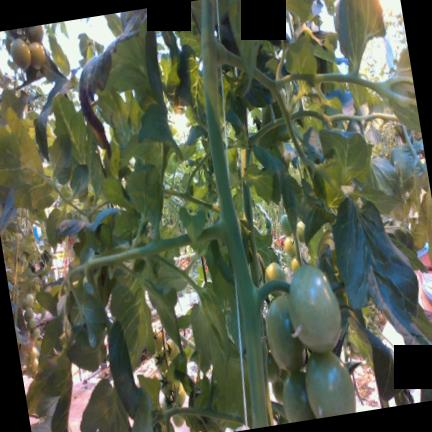6kp_peduncle: (232, 253, 291, 351)
6kp_petiole: (175, 172, 250, 279), (202, 1, 247, 97)
MainStem: (202, 0, 269, 429), (242, 182, 260, 286)
tomato: (288, 265, 341, 353), (306, 351, 356, 417), (266, 295, 306, 372), (283, 371, 315, 422), (265, 262, 286, 297), (11, 38, 31, 69), (29, 42, 45, 69), (174, 382, 186, 407), (161, 374, 174, 396), (284, 236, 296, 258), (280, 214, 292, 236), (155, 350, 167, 372), (29, 25, 43, 43), (167, 339, 179, 360), (161, 396, 174, 411), (154, 331, 163, 352), (297, 221, 305, 242), (172, 414, 184, 427), (29, 359, 38, 375), (25, 293, 34, 307), (291, 258, 299, 273), (28, 316, 37, 329), (29, 347, 37, 360), (25, 306, 33, 318), (33, 327, 41, 339)
